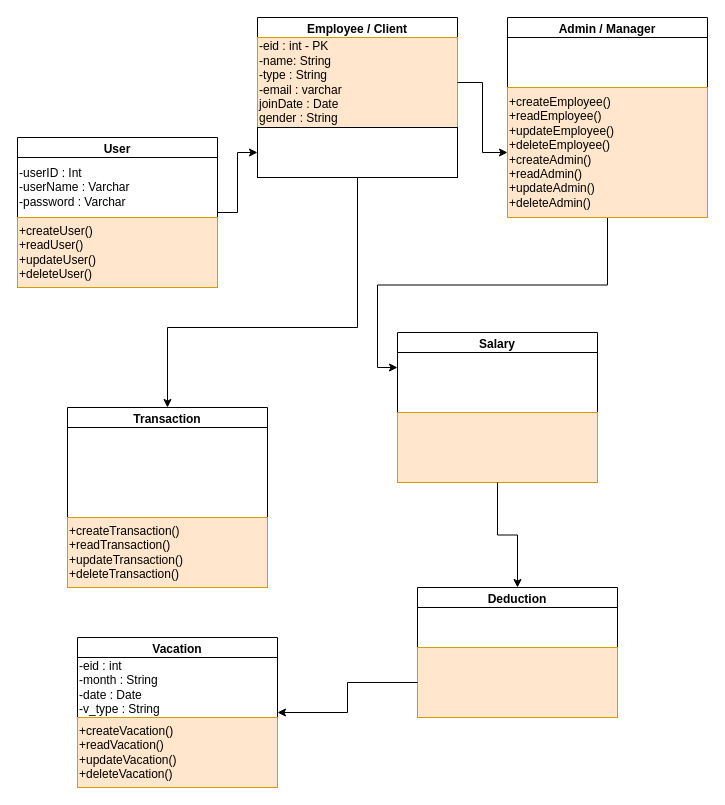
Some shapes in this 725 by 805 pixel diagram are drawn without their labels. Here are the shapes that lost their labels. From the top down, the centre of each, then its label:
point (607, 62): -eid : int -name : String -type : String
point (357, 152): +read Employee ()
point (497, 382): -sid : int -basic_salary : double -allowance : double
point (497, 447): +createSalary() +read Salary () +update Salary () +delete Salary ()
point (167, 472): tid : int eid : int amount : double t_date : Date s_month : String
point (517, 627): -tax : int -funds : int
point (517, 682): +createDeduction() +read Deduction () +update Deduction () +delete Deduction ()
